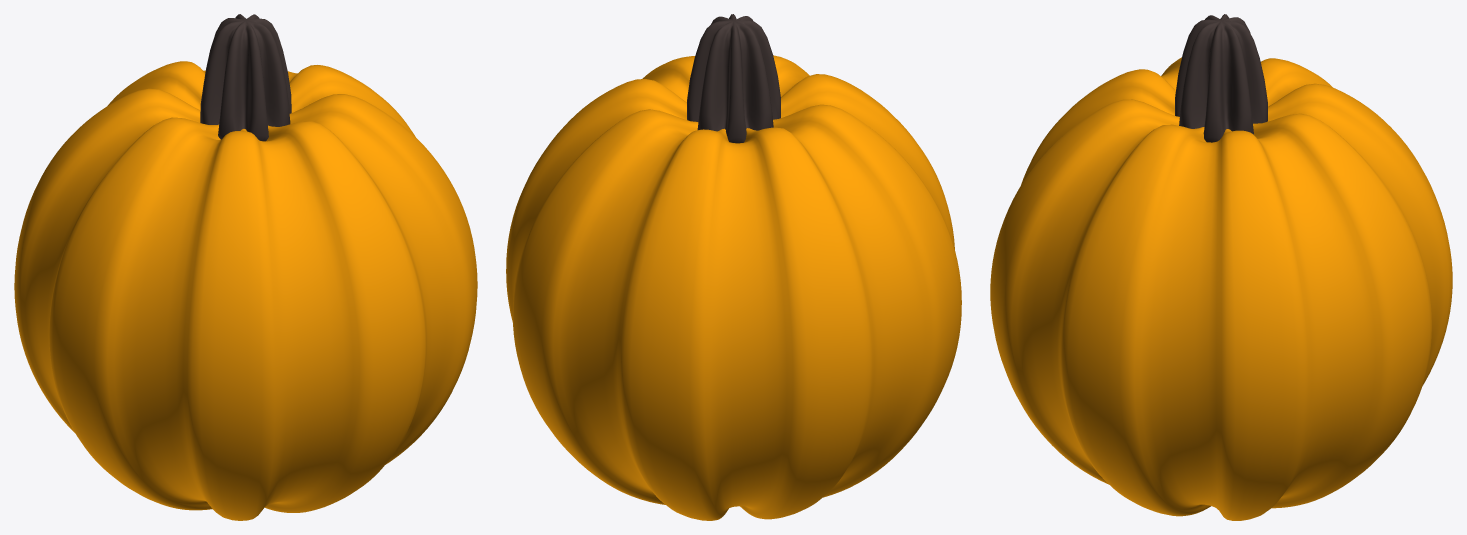
File: Pumpkin_Final.fbx
The picture shows the model from 3 angles, left to right: view 1: azimuth 30°, elevation 25°; view 2: azimuth 150°, elevation 25°; view 3: azimuth 270°, elevation 25°; orthographic projection.
Parts seen in each view (by area): view 1: Flesh, Stem; view 2: Flesh, Stem; view 3: Flesh, Stem.
Part boxes in pixels (box(x1,y1,x2,y2)): Flesh: box(14, 61, 477, 520); Stem: box(200, 14, 291, 141); Flesh: box(506, 55, 961, 520); Stem: box(687, 14, 780, 143); Flesh: box(990, 57, 1452, 520); Stem: box(1175, 14, 1267, 142).
Bounding box in the file's own units: 1.94 × 2.23 × 1.94.
